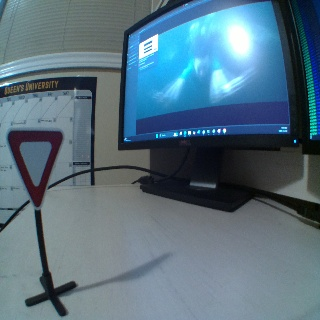sign_yield: (4, 125, 62, 207)
